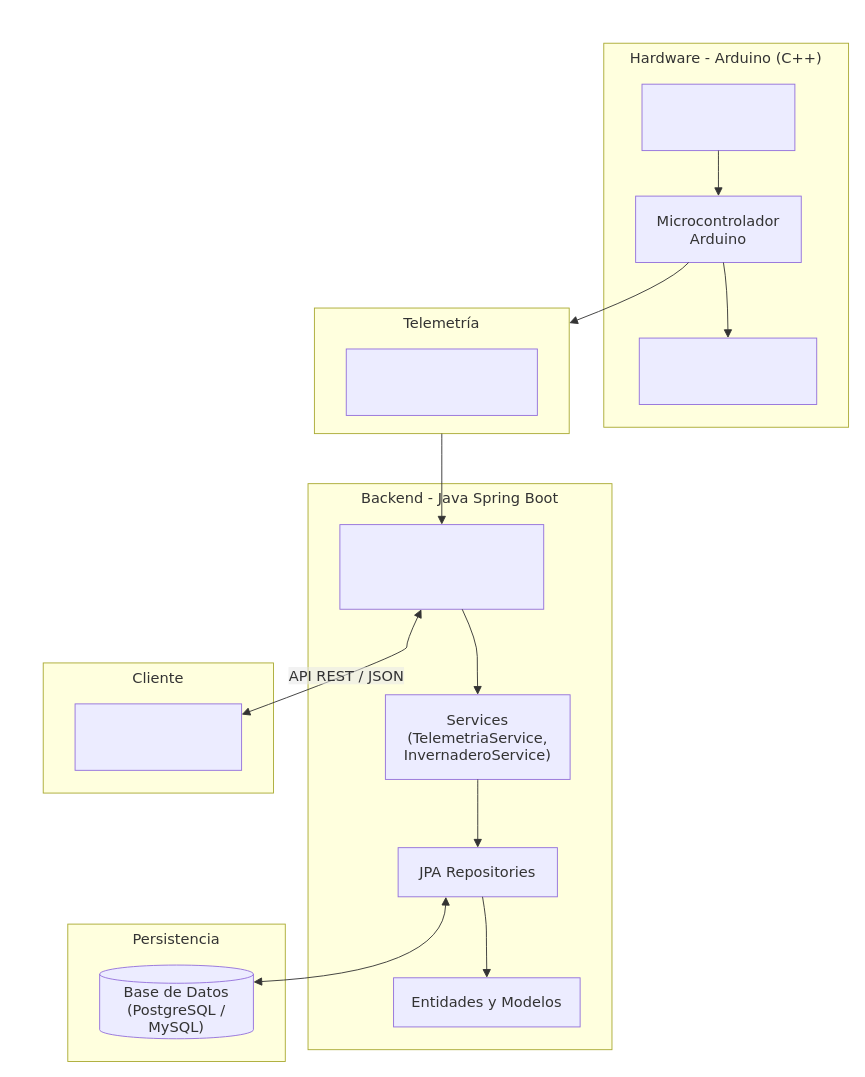
Some shapes in this 865 by 1077 pixel diagram are drawn without their labels. The shapes that lost their labels are listed below. From the top down, each one's centre as x and y in pixels, then its label:
(718,117): Sensores (DHT11, YL-69)
(441,381): Transmisión de datos vía WiFi
(727,370): Actuadores (Servomotor, LEDs)
(441,566): REST Controllers (TelemetriaController, InvernaderoController)
(158,736): Dashboard Web / App Móvil
